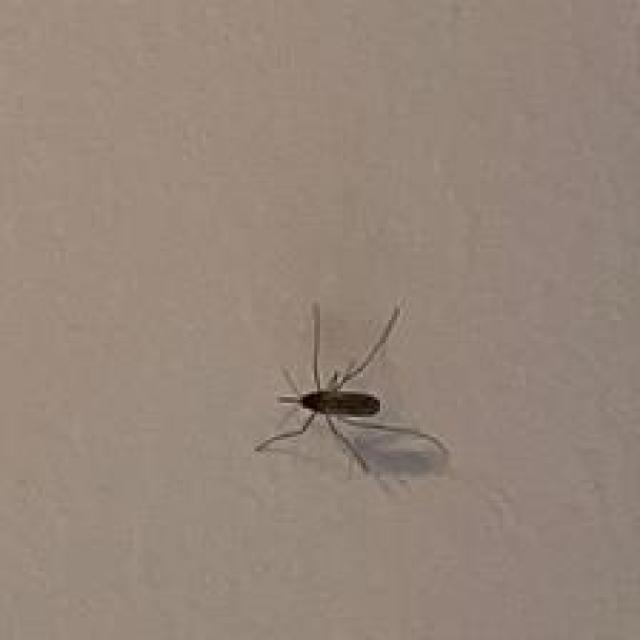Culex: (253, 298, 450, 493)
